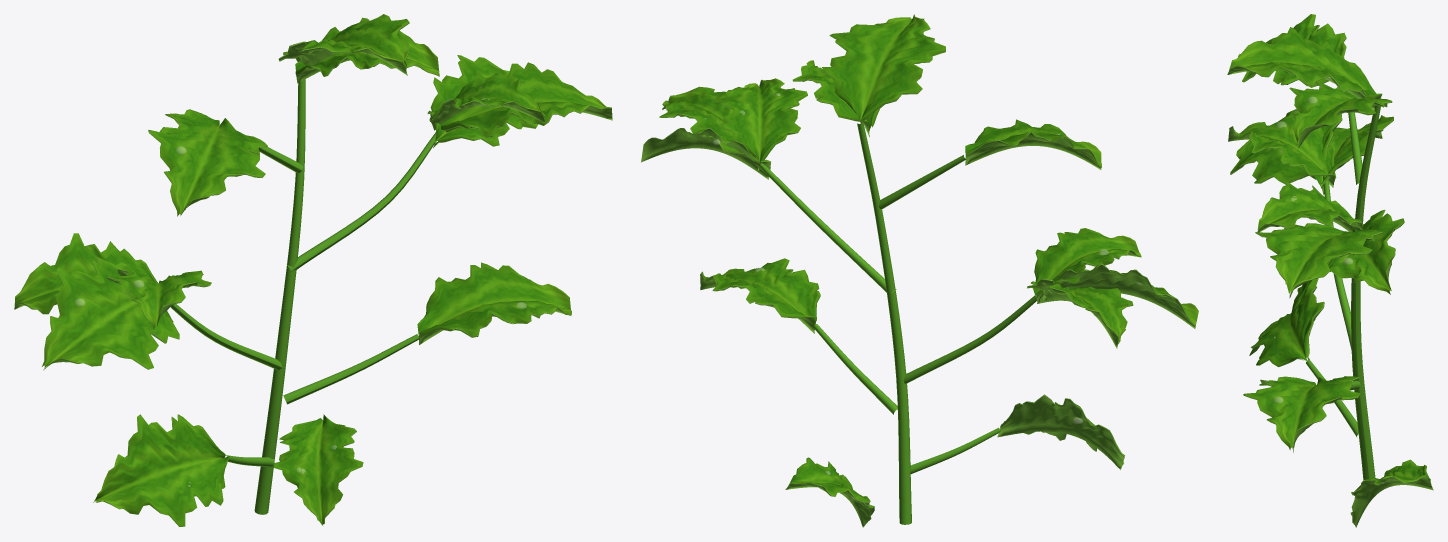
Rendered from cilantro-sprig.glb.
3 renders of one model, left to right at view 1: azimuth 30°, elevation 25°; view 2: azimuth 150°, elevation 25°; view 3: azimuth 270°, elevation 25°, orthographic. The views are drawn at different scales.
Visible parts, largest first — view 1: cilantro-lobes-top, cilantro-stems, cilantro-lobes-underside; view 2: cilantro-lobes-top, cilantro-lobes-underside, cilantro-stems; view 3: cilantro-lobes-top, cilantro-lobes-underside, cilantro-stems, cilantro-sprig.
Part boxes in pixels (x1,y1,x2,y2): cilantro-lobes-top: [14, 14, 611, 526]; cilantro-stems: [170, 79, 440, 514]; cilantro-lobes-underside: [14, 20, 612, 526]; cilantro-lobes-top: [645, 14, 1198, 518]; cilantro-lobes-underside: [641, 18, 1195, 527]; cilantro-stems: [758, 122, 1043, 524]; cilantro-lobes-top: [1229, 14, 1431, 522]; cilantro-lobes-underside: [1227, 15, 1433, 527]; cilantro-stems: [1306, 105, 1380, 479]; cilantro-sprig: [1273, 77, 1383, 483].
Size of the model in its own units: 0.1393 by 0.1206 by 0.0469.
Materials: 4 (2 with a texture image).
